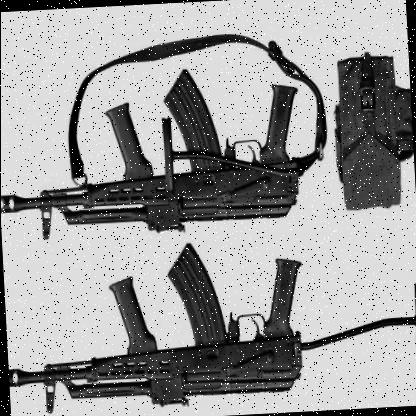rifle: (2, 228, 395, 416), (0, 58, 332, 235)
